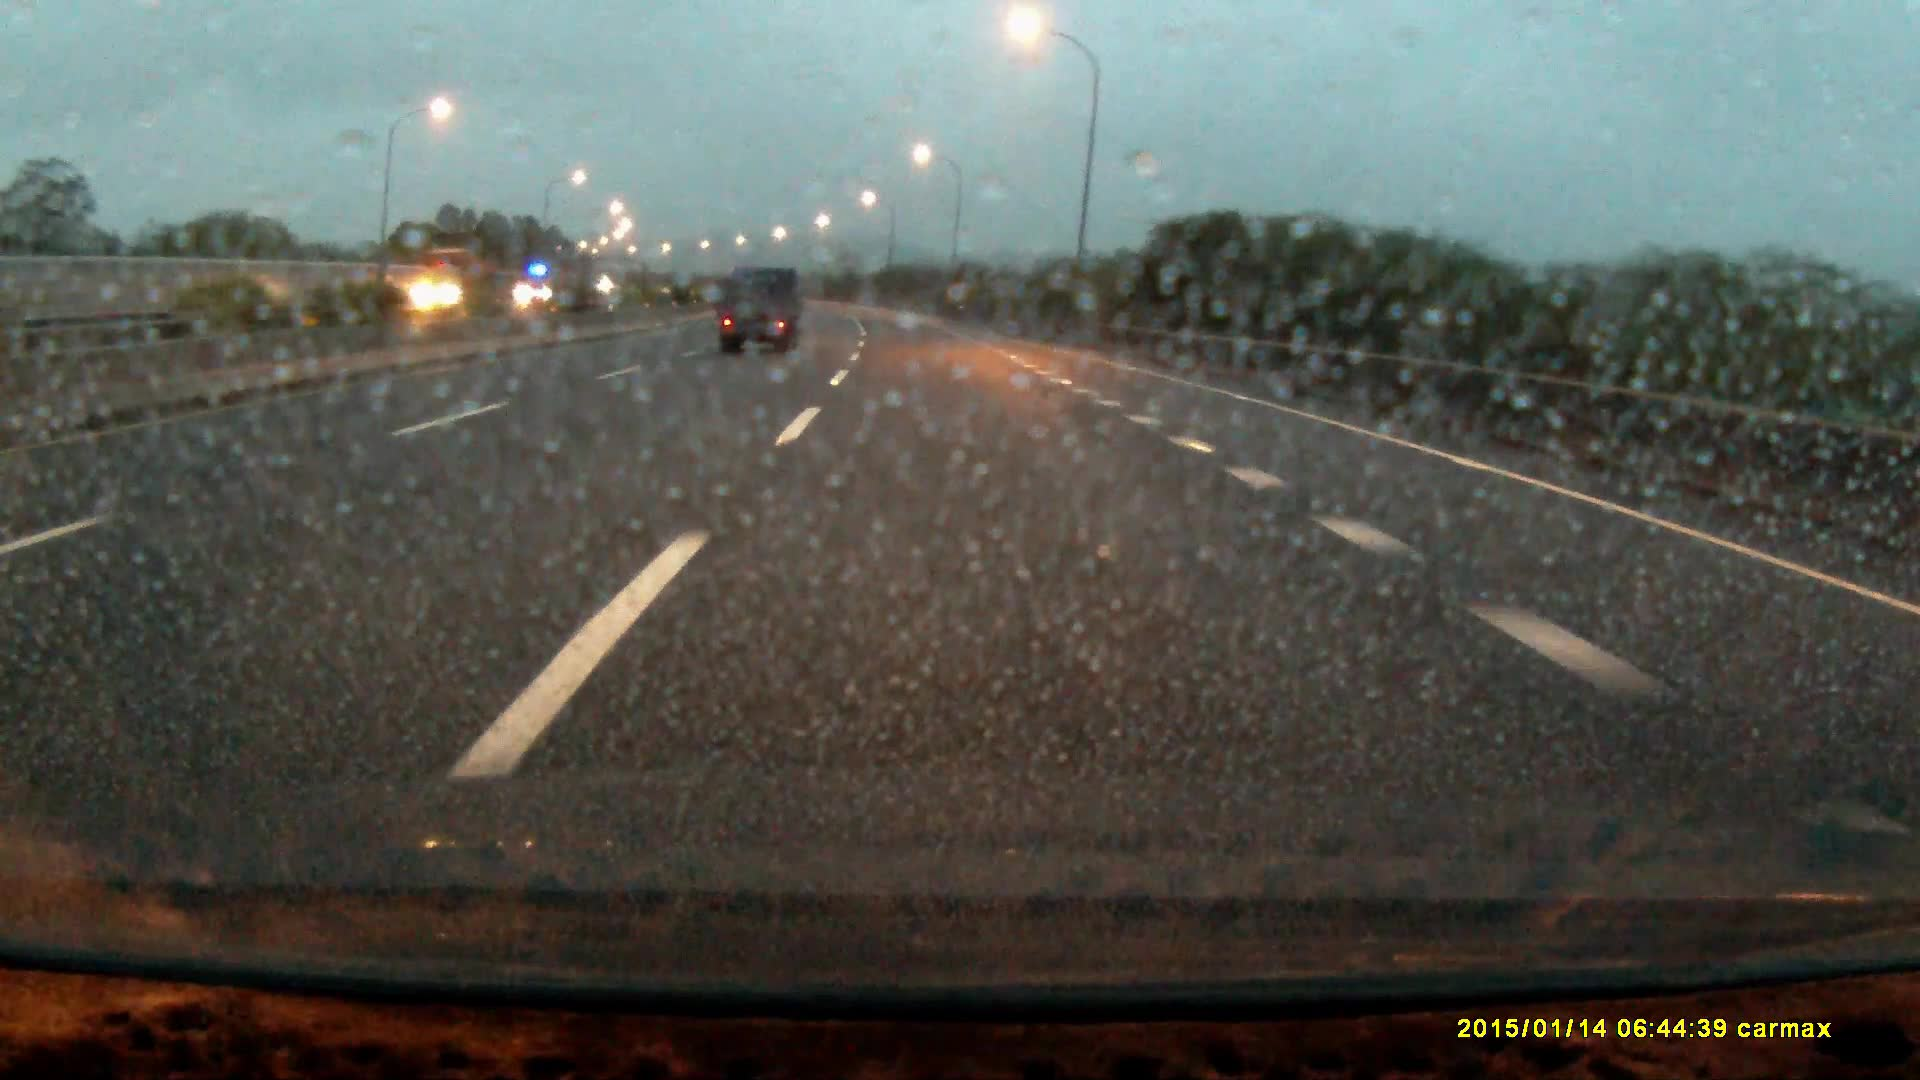vehicle: (721, 266, 800, 360), (417, 251, 508, 316), (516, 261, 580, 313)
